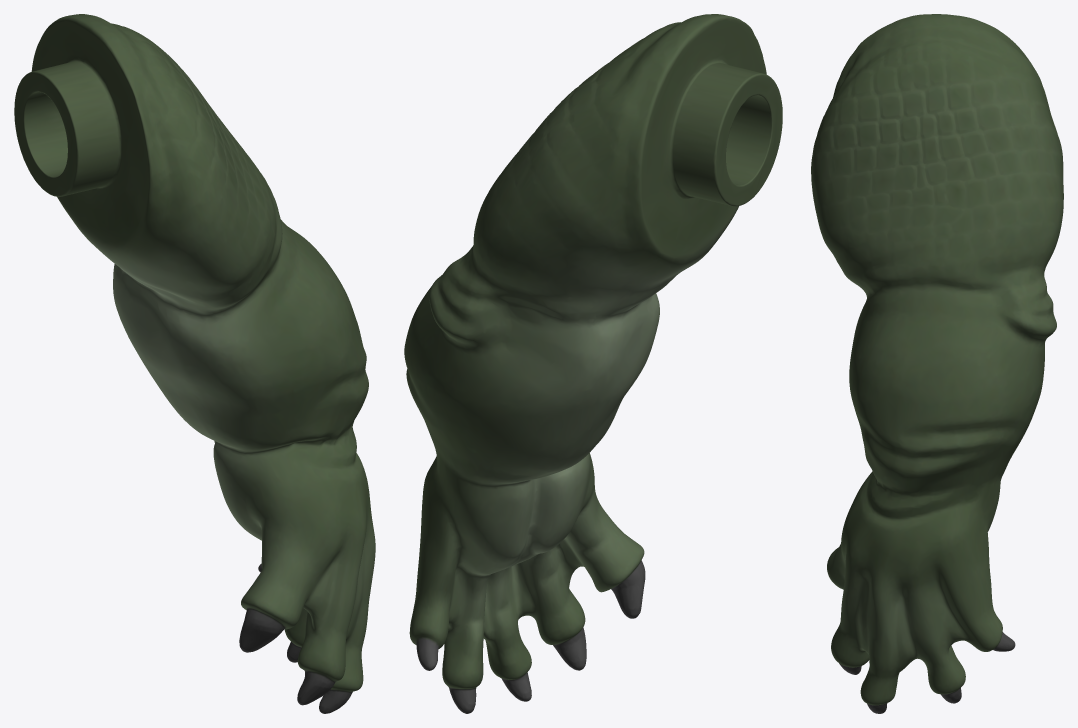
File: Bras_Crocodile_lft.glb
3 views of the same model, side by side, from view 1: azimuth 30°, elevation 25°; view 2: azimuth 150°, elevation 25°; view 3: azimuth 270°, elevation 25° (orthographic). The views are drawn at different scales.
Visible parts, largest first — view 1: Bras_Crocodile_lft; view 2: Bras_Crocodile_lft; view 3: Bras_Crocodile_lft.
Part boxes in pixels (x1,y1,x2,y2): Bras_Crocodile_lft: [14, 14, 375, 713]; Bras_Crocodile_lft: [404, 14, 782, 713]; Bras_Crocodile_lft: [811, 14, 1063, 713].
Bounding box in the file's own units: 2.37 × 5.22 × 1.94.
